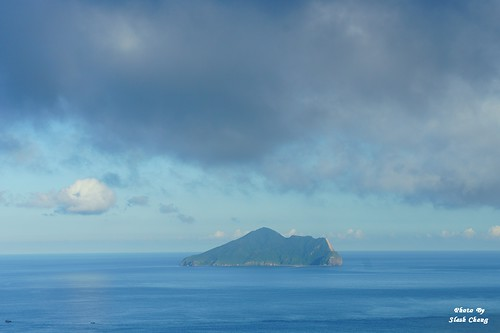turtleIsland: (183, 227, 343, 268)
